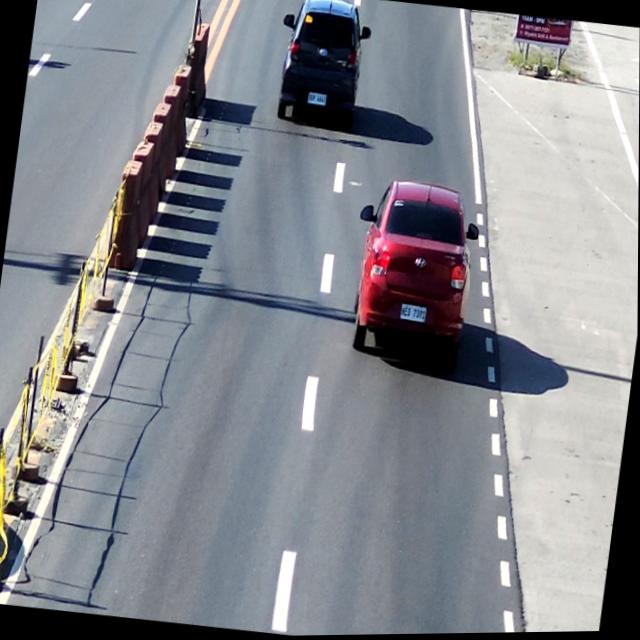Car: (345, 171, 482, 376), (273, 0, 370, 135)
License-Plate: (397, 302, 430, 327), (304, 90, 329, 111)
